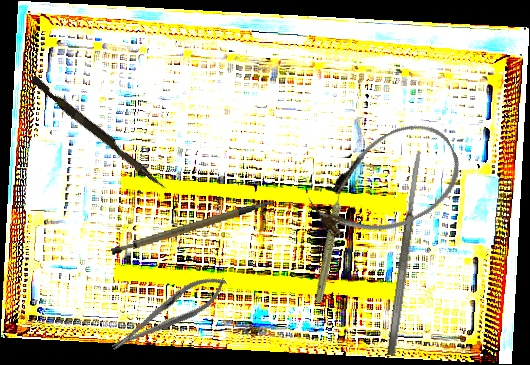Cannula: (298, 109, 475, 260)
Handpiece: (291, 184, 372, 305)
Needle Holder: (104, 266, 233, 361)
Pusher: (27, 75, 171, 191)
Scalpel Handle: (107, 200, 279, 257)
Spatula Surgical: (385, 150, 425, 357)
